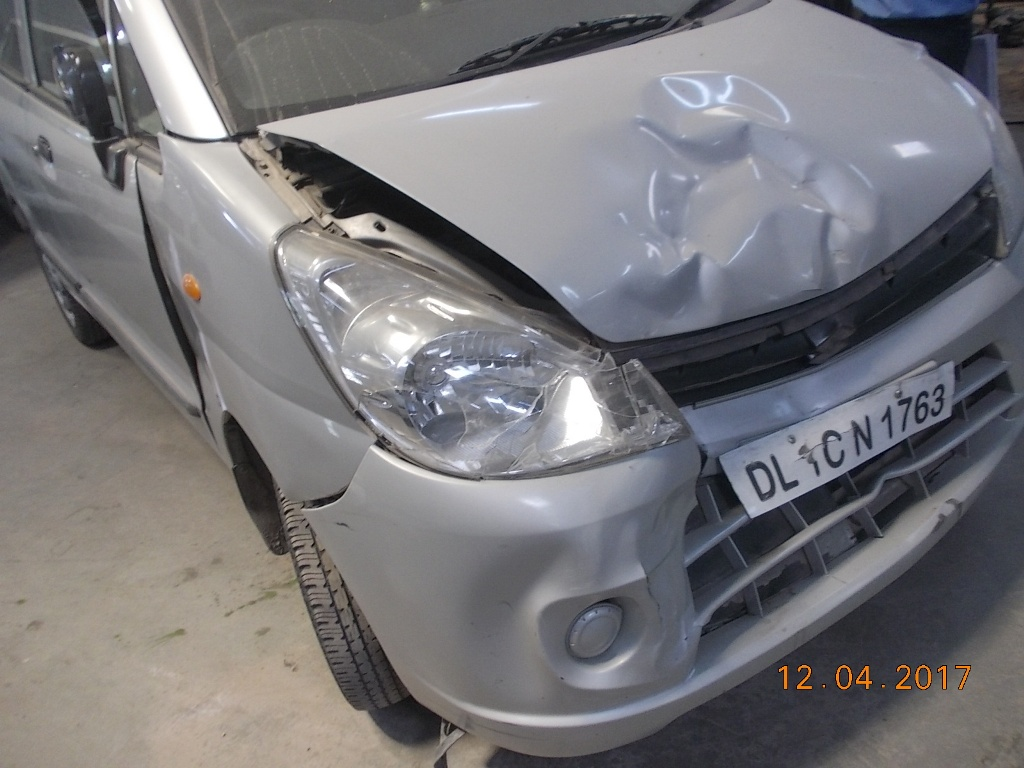Scratch_or_spot: (336, 564, 370, 599), (314, 608, 347, 641)
